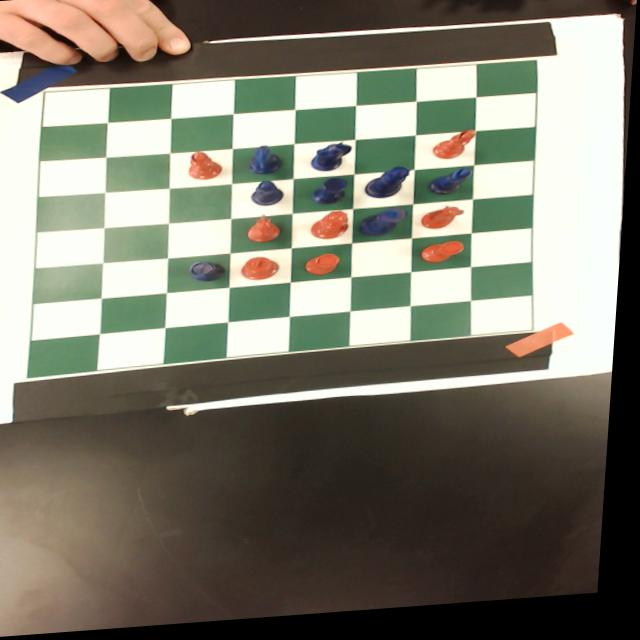B: (432, 172, 477, 201), (250, 182, 291, 210)
K: (360, 212, 411, 243)
N: (311, 145, 357, 178), (250, 145, 288, 179)
Q: (365, 170, 416, 205)
R: (311, 181, 353, 211), (191, 262, 232, 286)
b: (434, 134, 481, 167), (187, 152, 227, 185)
k: (242, 259, 286, 285)
n: (246, 216, 288, 249), (423, 209, 471, 237)
q: (311, 213, 355, 246)
r: (423, 246, 470, 271), (306, 257, 346, 281)
